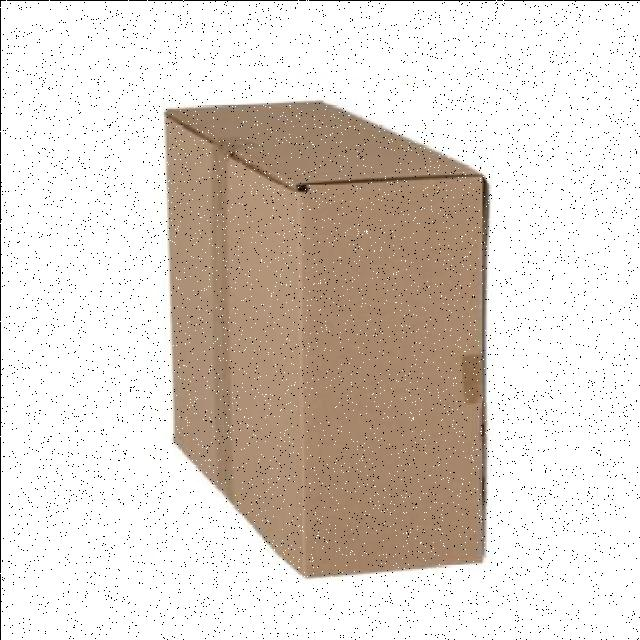normal: (155, 83, 494, 582)
